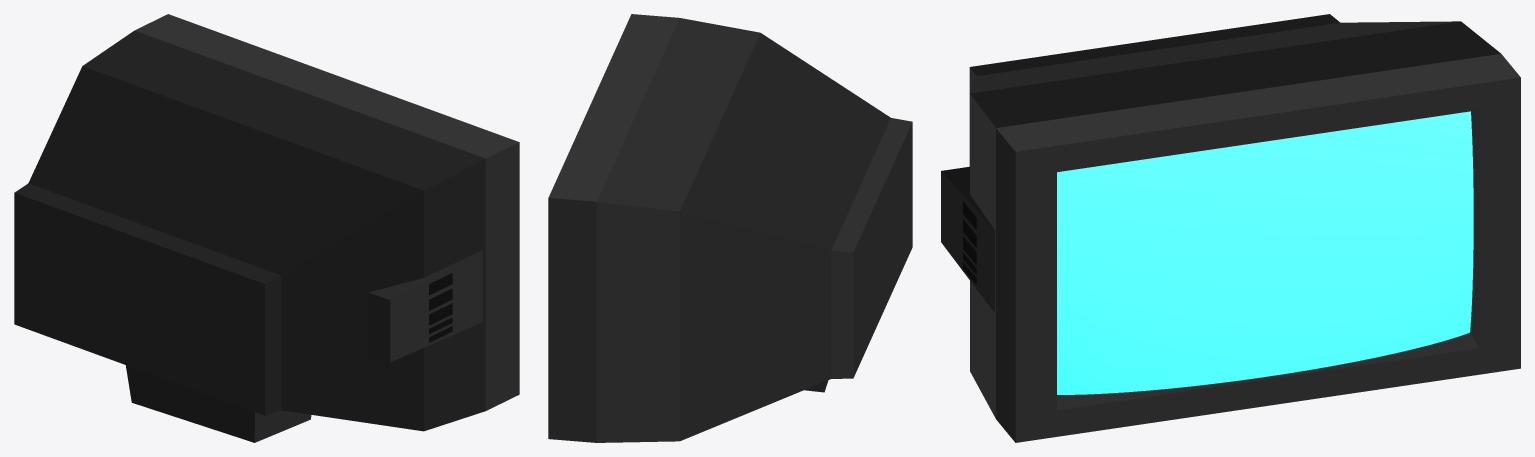
Rendered from Monitor_Old.fbx.
3 views of the same model, side by side, from view 1: azimuth 30°, elevation 25°; view 2: azimuth 150°, elevation 25°; view 3: azimuth 270°, elevation 25° (orthographic). The views are drawn at different scales.
Visible parts, largest first — view 1: Monitor_01.034; view 2: Monitor_01.034; view 3: Monitor_01.034.
Part boxes in pixels (x1,y1,x2,y2): Monitor_01.034: (14, 14, 519, 442); Monitor_01.034: (548, 14, 912, 442); Monitor_01.034: (941, 14, 1520, 442).
Bounding box in the file's own units: 69.02 × 45.88 × 81.52.
